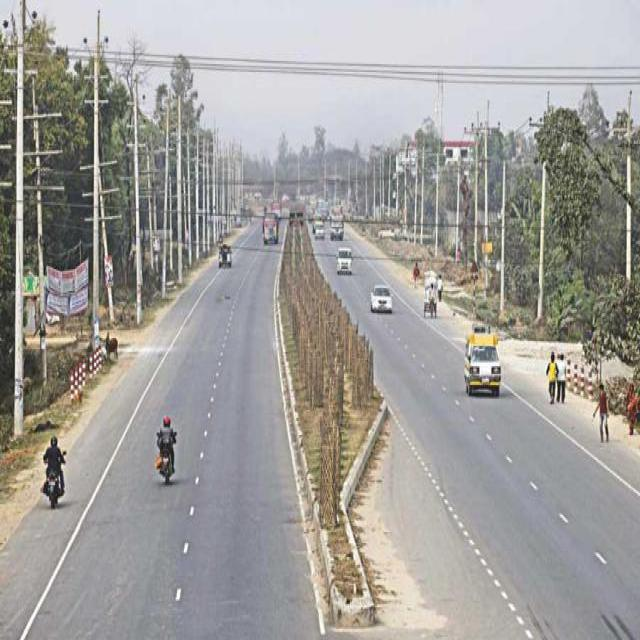bike: (43, 460, 66, 509), (158, 434, 175, 487)
vehicle: (463, 331, 502, 395), (369, 283, 393, 312), (263, 213, 280, 244), (336, 246, 353, 274), (219, 240, 233, 267), (329, 215, 344, 240), (270, 198, 282, 217), (315, 219, 326, 238)
